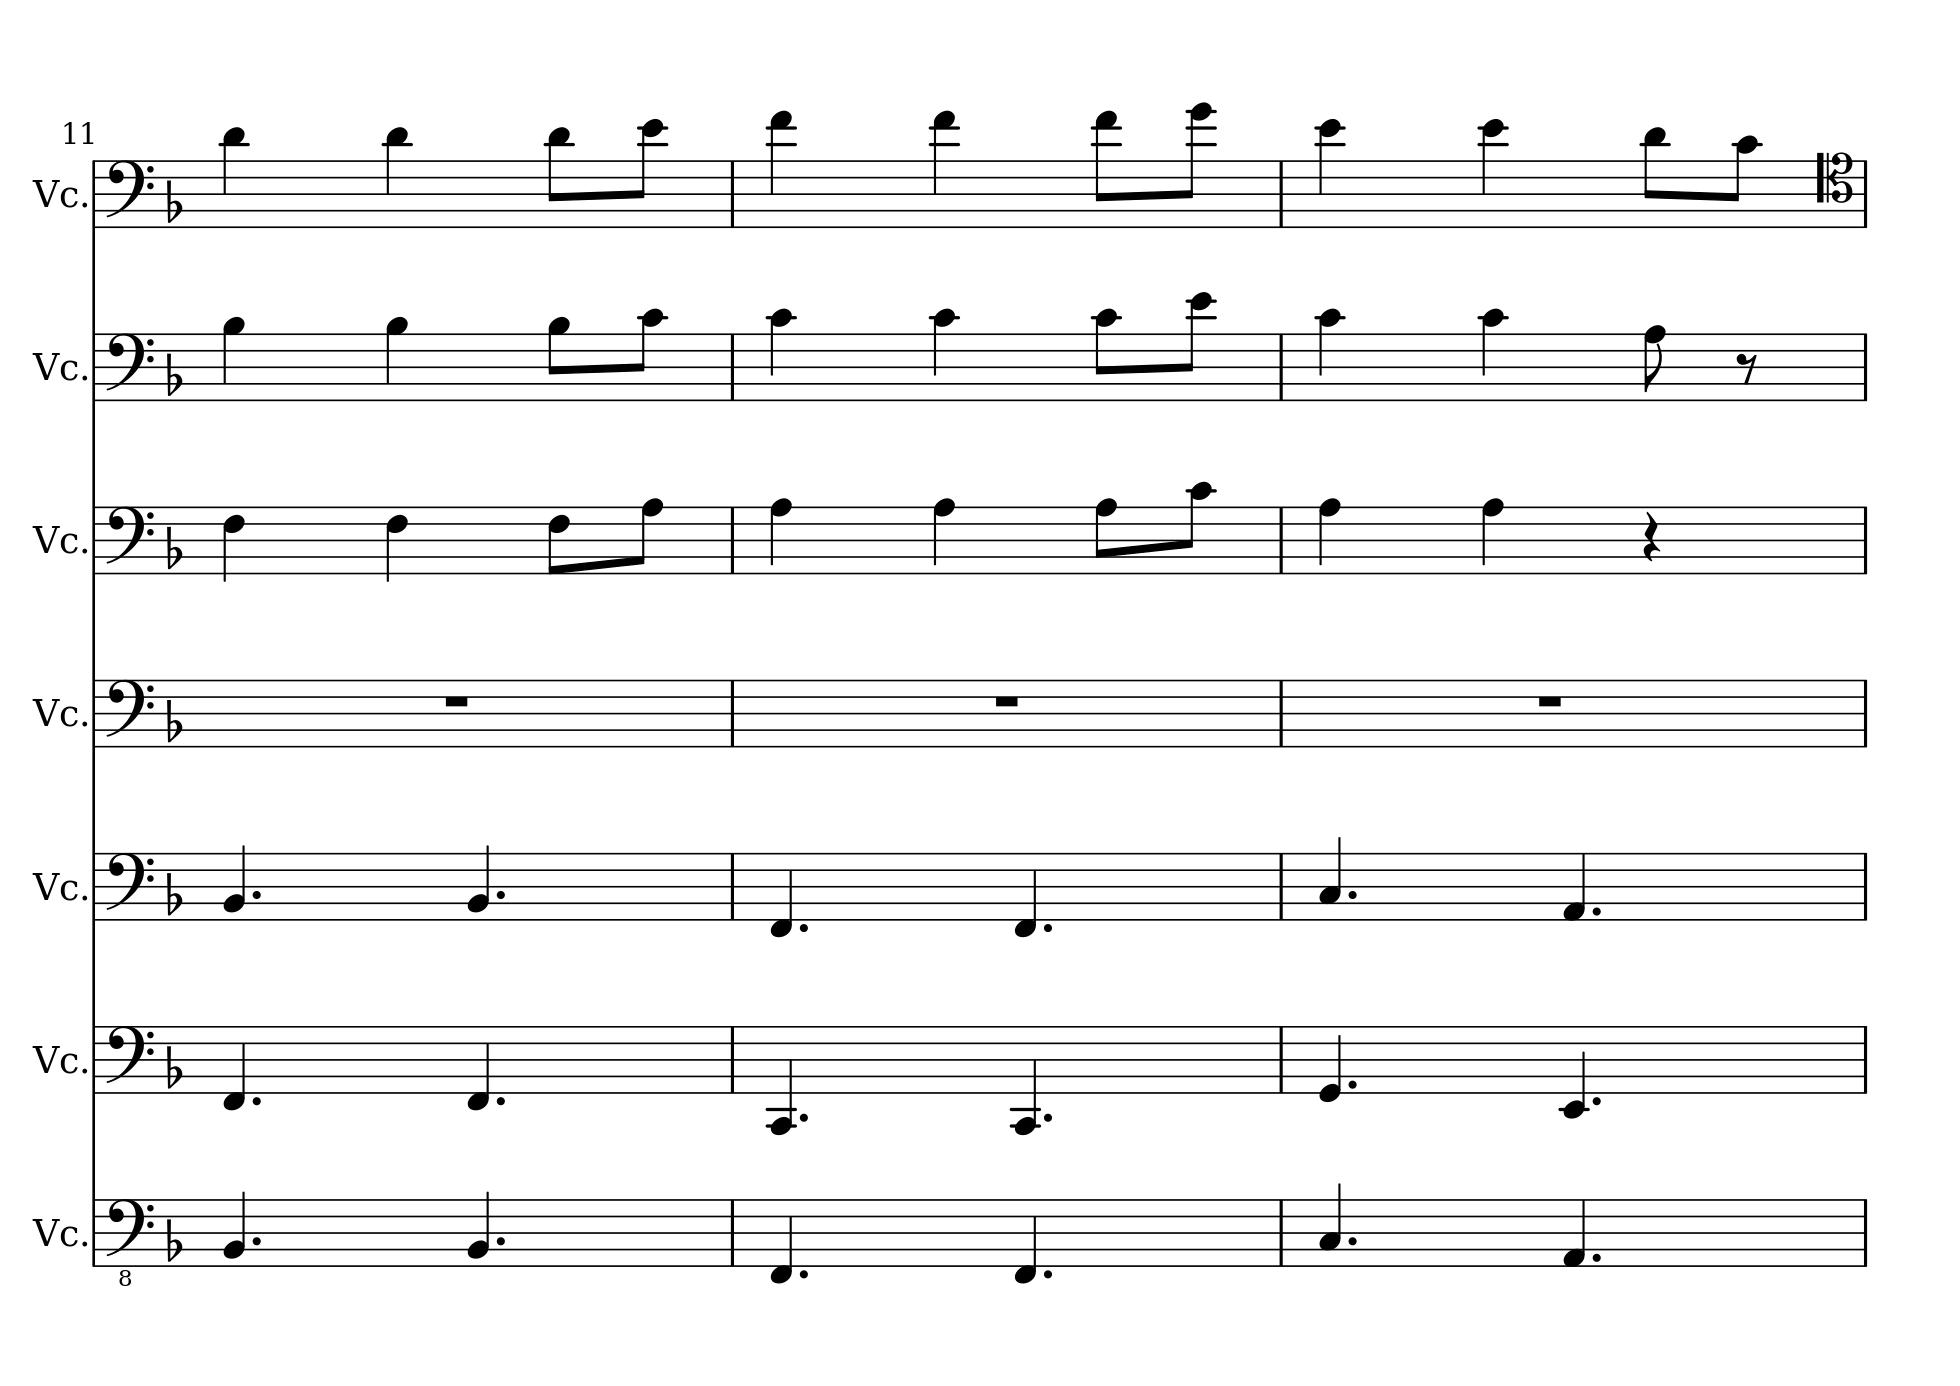1: (79, 118, 96, 147), (61, 118, 76, 147)
4_-1: (220, 1023, 249, 1111), (768, 1195, 795, 1285), (465, 1023, 492, 1111), (769, 849, 795, 937), (1012, 849, 1038, 937)
4_-2: (1561, 1023, 1587, 1117)
4_-4: (766, 1023, 796, 1135), (1011, 1023, 1041, 1135)
4_0: (1318, 1021, 1345, 1102)
4_1: (1563, 850, 1588, 922), (1563, 1197, 1587, 1267)
4_10: (768, 306, 795, 403), (1479, 306, 1506, 403), (931, 306, 958, 402), (1317, 307, 1344, 403)
4_11: (219, 124, 247, 229)
4_12: (1479, 117, 1509, 229), (1317, 117, 1344, 229)
4_13: (766, 109, 795, 229), (931, 109, 958, 231)
4_2: (222, 841, 249, 922), (466, 841, 493, 922), (466, 1188, 493, 1269), (222, 1188, 247, 1267)
4_3: (1318, 834, 1344, 922), (1318, 1180, 1344, 1267)
4_6: (220, 502, 250, 582), (385, 502, 411, 580)
4_8: (768, 495, 793, 576), (1480, 495, 1506, 576), (931, 496, 957, 576), (1317, 496, 1342, 576)
4_9: (220, 313, 247, 402), (384, 315, 409, 403)
8_-1: (1012, 1195, 1039, 1285)
8_10: (1176, 480, 1213, 576), (1725, 133, 1761, 229), (628, 307, 664, 403), (1093, 307, 1122, 402)
8_11: (382, 124, 411, 229), (1642, 123, 1669, 229), (546, 124, 573, 229)
8_12: (1176, 289, 1215, 403), (628, 117, 664, 229)
8_13: (1092, 109, 1120, 229)
8_14: (1177, 102, 1215, 229)
8_6: (547, 502, 571, 576)
8_8: (630, 496, 663, 576), (1642, 322, 1668, 403), (1093, 496, 1119, 577)
8_9: (547, 313, 571, 403)
Fclef: (103, 157, 154, 229)
Flat: (103, 504, 156, 576), (103, 676, 156, 748), (103, 1023, 156, 1095), (103, 331, 154, 403), (105, 850, 154, 922), (163, 349, 184, 397), (163, 694, 184, 742), (163, 177, 184, 223), (163, 1042, 184, 1089), (163, 523, 183, 570), (163, 870, 183, 916), (163, 1216, 183, 1263)
Lower_Fclef: (105, 1195, 154, 1285)
Rests1: (441, 691, 472, 709), (991, 691, 1023, 709), (1534, 691, 1566, 709)
Rests4: (1641, 510, 1662, 565)
Rests8: (1734, 349, 1759, 385)
Single_barline: (721, 679, 742, 745), (1855, 505, 1875, 574), (1272, 331, 1291, 399), (723, 333, 742, 400), (1272, 505, 1291, 573), (1272, 679, 1291, 747), (1855, 679, 1875, 747), (1855, 160, 1875, 226), (1855, 853, 1875, 919), (85, 505, 103, 574), (85, 333, 103, 400), (724, 505, 742, 573), (85, 679, 103, 747), (85, 1026, 103, 1093), (85, 160, 103, 226), (724, 160, 742, 226), (1272, 853, 1290, 919), (1272, 1200, 1290, 1264), (1273, 159, 1290, 226), (87, 852, 103, 919), (1857, 333, 1873, 399), (724, 853, 741, 919), (1857, 1026, 1873, 1092), (1857, 1198, 1873, 1264), (1273, 1027, 1290, 1092), (724, 1026, 739, 1092), (87, 1198, 102, 1264), (724, 1198, 739, 1264)
Tensor_Cclef: (1815, 150, 1855, 228)
Vc: (31, 867, 82, 904), (28, 523, 79, 559), (31, 175, 81, 211), (31, 352, 81, 388), (28, 697, 78, 733), (30, 1039, 79, 1075), (30, 1216, 79, 1252)
dot: (1041, 919, 1056, 934), (1345, 886, 1359, 901), (1590, 903, 1603, 918), (796, 919, 810, 934), (1590, 1093, 1603, 1108), (796, 1110, 810, 1125), (1041, 1110, 1054, 1125), (249, 1233, 262, 1248), (1345, 1077, 1359, 1090), (250, 886, 262, 901), (796, 1267, 811, 1279), (1041, 1267, 1056, 1279), (493, 888, 505, 901), (493, 1093, 507, 1105), (493, 1234, 507, 1246), (1345, 1234, 1359, 1246), (1590, 1249, 1602, 1263), (250, 1093, 262, 1105)
